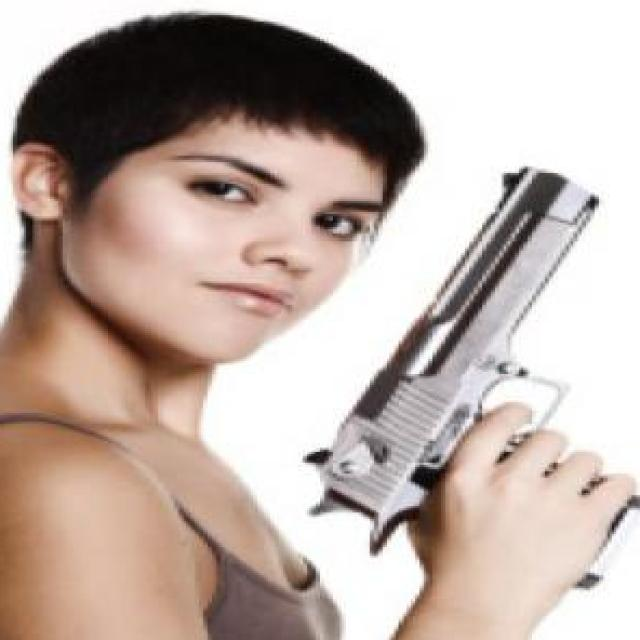pistol: (295, 158, 640, 591)
